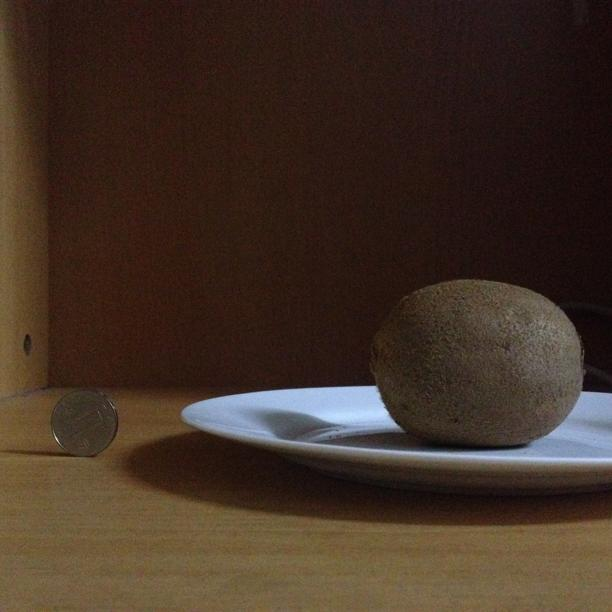coin: (47, 386, 118, 457)
qiwi: (370, 281, 581, 448)
